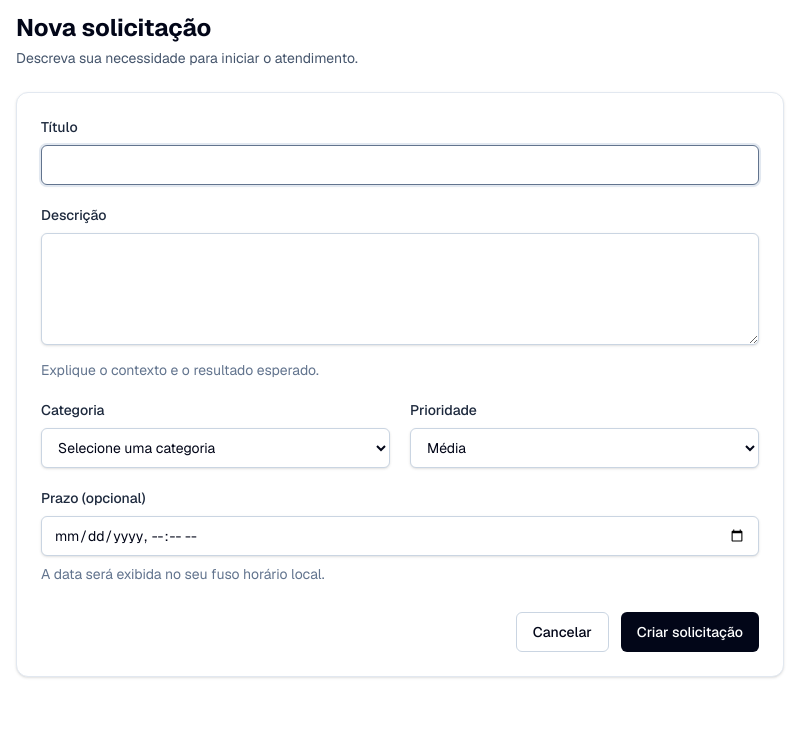
Test case: nova solicitação › trata erro inesperado da API
The image size is (801, 735).
Step 1. Type "Acesso ao financeiro" into the field labelled "Título" → (400, 165), box [41,145,759,185]
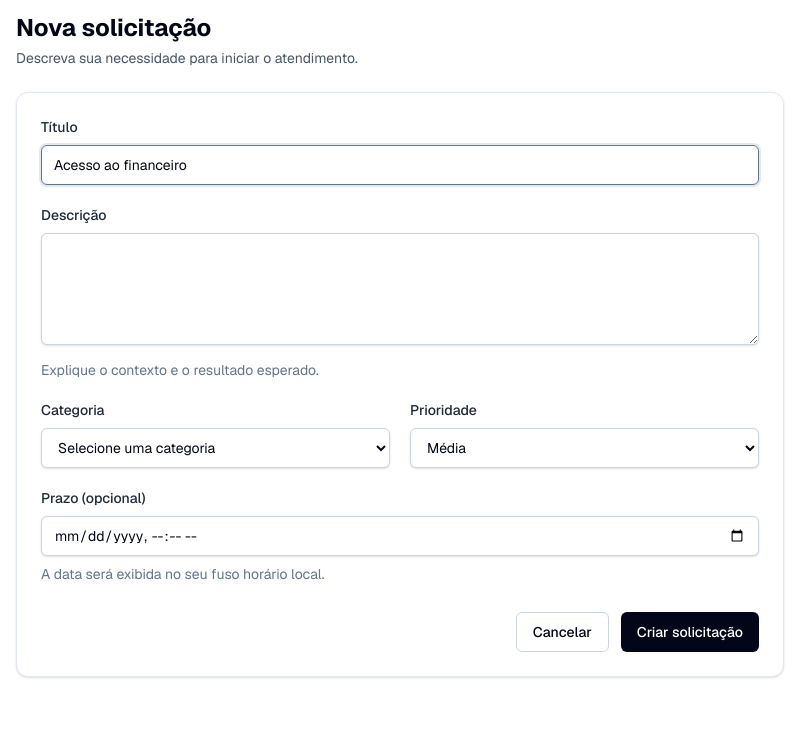
Step 2. Type "Liberar perfil" into the text box labelled "Descrição" → (400, 289), box [41,233,759,345]
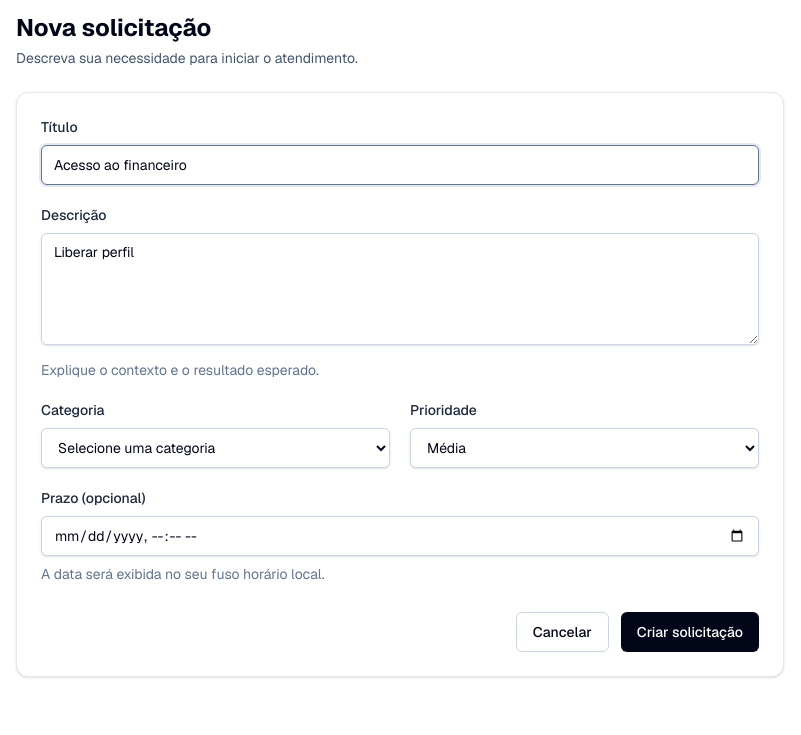
Step 3. Select "Acessos" in the dropdown labelled "Categoria" → (216, 448), box [41,428,390,468]
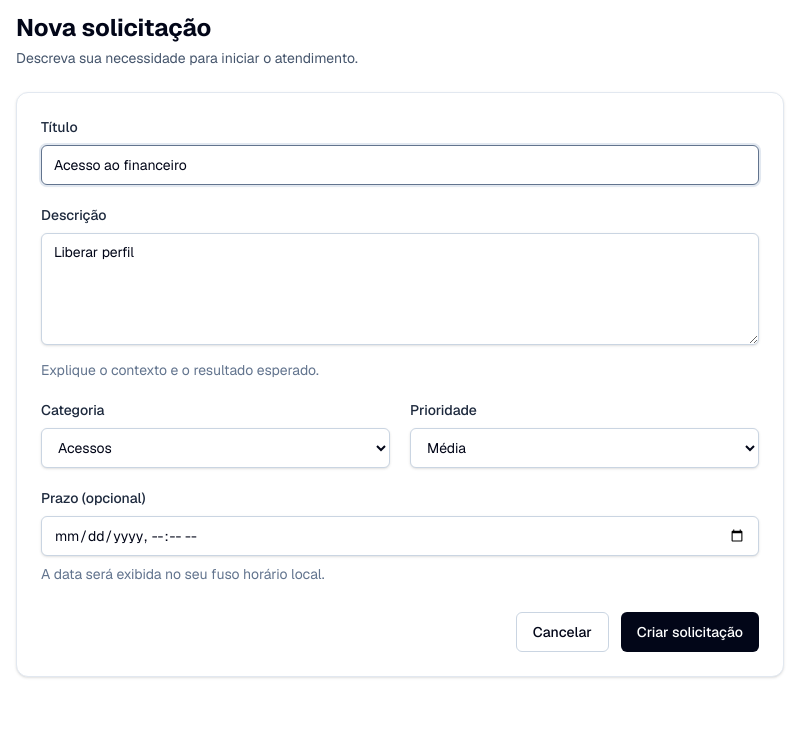
Step 4. Click the button "Criar solicitação" → (690, 632), box [621,612,759,652]
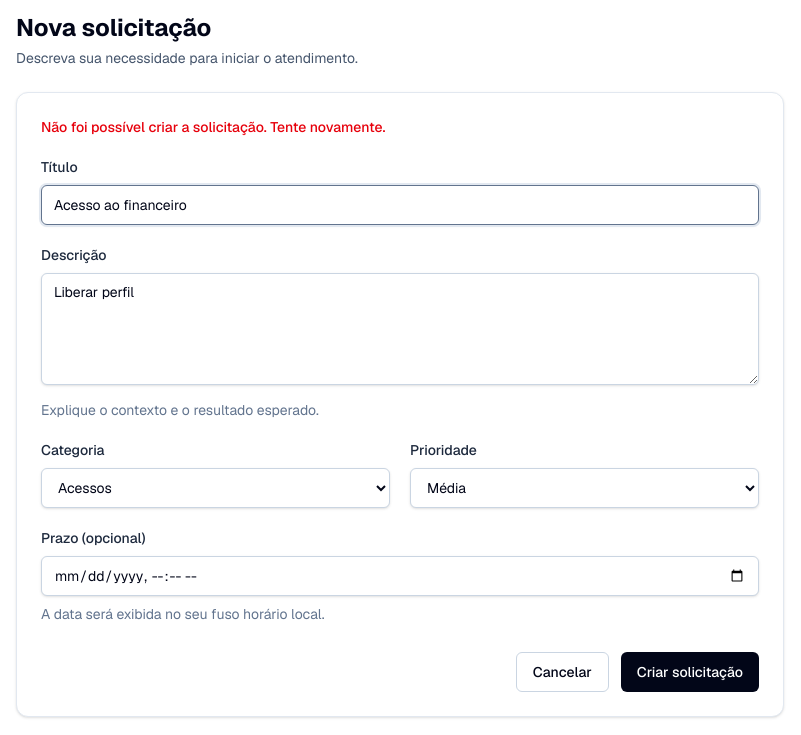
Expected: the text "Não foi possível criar a solicitação. Tente novamente." is shown, [41,118,386,136]
